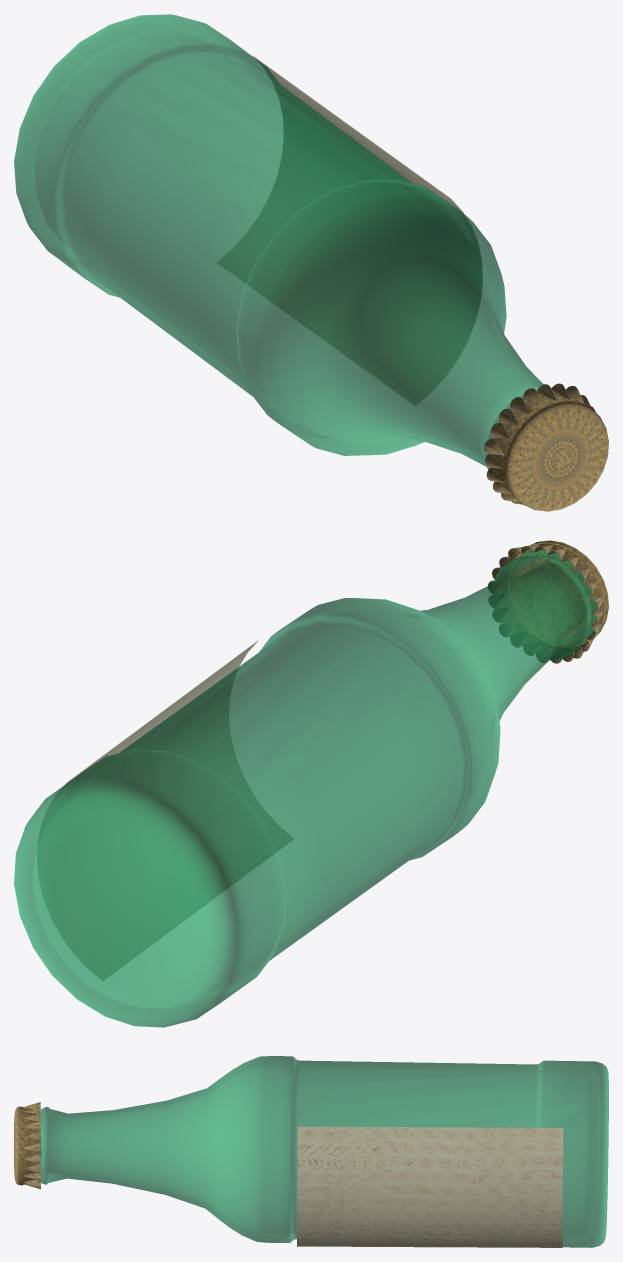
The model's file is model_align.obj.
3 renders of one model, top to bottom at view 1: azimuth 30°, elevation 25°; view 2: azimuth 150°, elevation 25°; view 3: azimuth 270°, elevation 25°, orthographic. The views are drawn at different scales.
Visible parts, largest first — view 1: mesh23_mesh23-geometry, mesh24_mesh24-geometry, mesh1_mesh1-geometry; view 2: mesh23_mesh23-geometry, mesh24_mesh24-geometry, mesh1_mesh1-geometry; view 3: mesh23_mesh23-geometry, mesh24_mesh24-geometry, mesh1_mesh1-geometry.
Part boxes in pixels (left/top/right/bottom): mesh23_mesh23-geometry: left=14, top=14, right=552, bottom=469; mesh24_mesh24-geometry: left=217, top=55, right=482, bottom=405; mesh1_mesh1-geometry: left=484, top=383, right=608, bottom=511; mesh23_mesh23-geometry: left=14, top=549, right=597, bottom=1027; mesh24_mesh24-geometry: left=37, top=640, right=293, bottom=980; mesh1_mesh1-geometry: left=488, top=540, right=608, bottom=663; mesh23_mesh23-geometry: left=40, top=1056, right=608, bottom=1247; mesh24_mesh24-geometry: left=297, top=1126, right=563, bottom=1247; mesh1_mesh1-geometry: left=14, top=1102, right=40, bottom=1189.
Size of the model in its own units: 0.049 by 0.0481 by 0.151.
